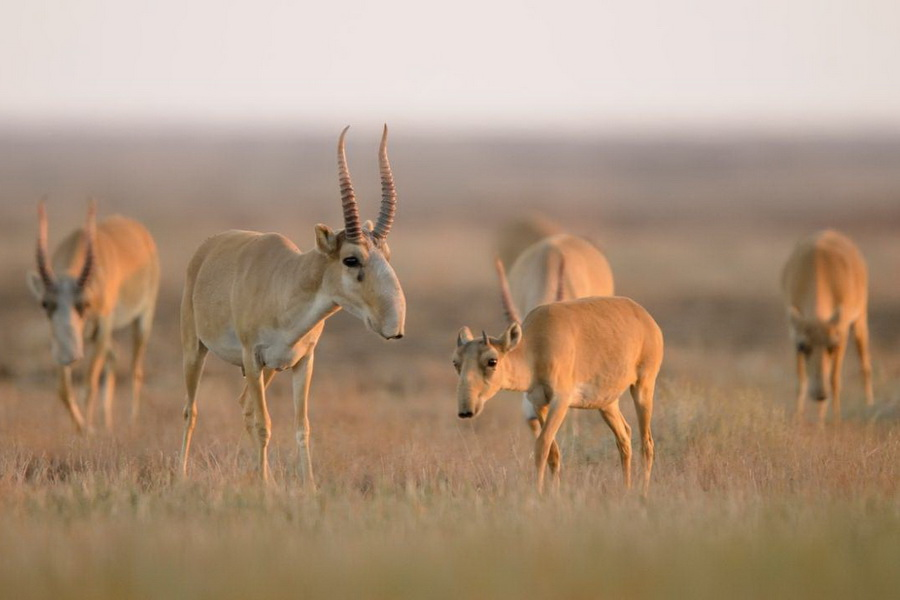saiga: (177, 121, 411, 495), (450, 294, 665, 510), (25, 193, 165, 439), (775, 228, 880, 436)
